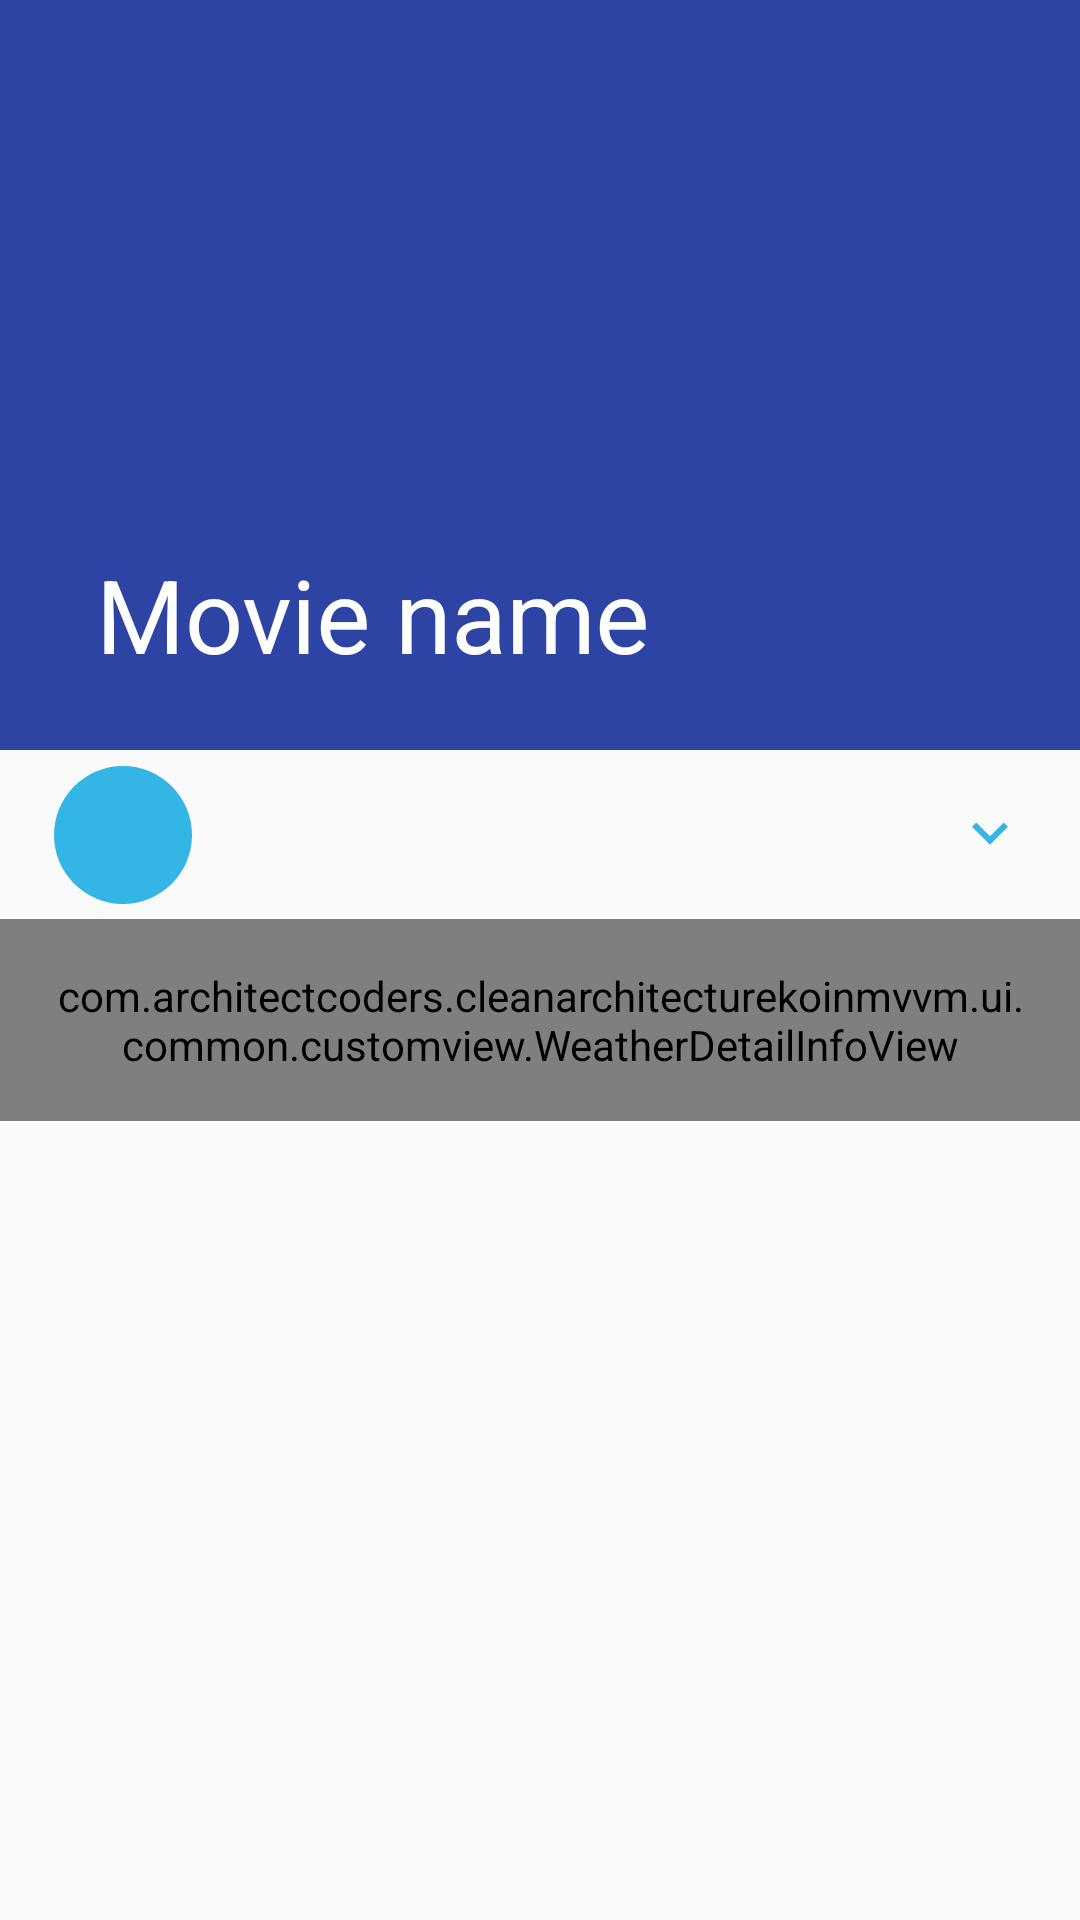

Icons on this 1080px×1920px Android screen, each with its box as [x1=x1, y1=y1, x2=x2, y2=y2]:
arrow down: [x1=972, y1=822, x2=1008, y2=845]
